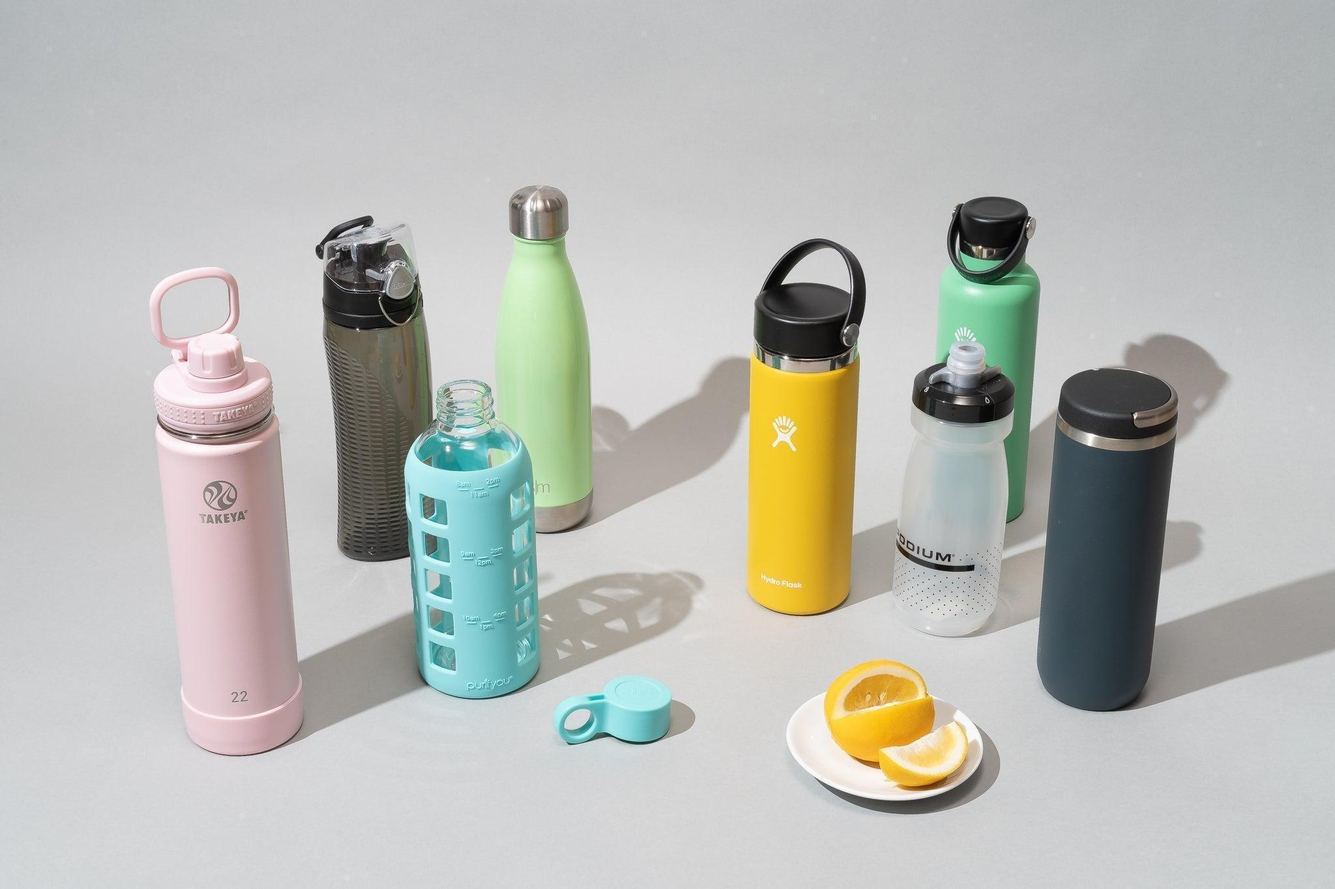gym bottle: (151, 298, 306, 758), (1033, 363, 1182, 714), (741, 235, 868, 616), (402, 376, 544, 701), (315, 212, 434, 562), (888, 331, 1018, 638), (491, 183, 597, 529), (932, 193, 1044, 362)
